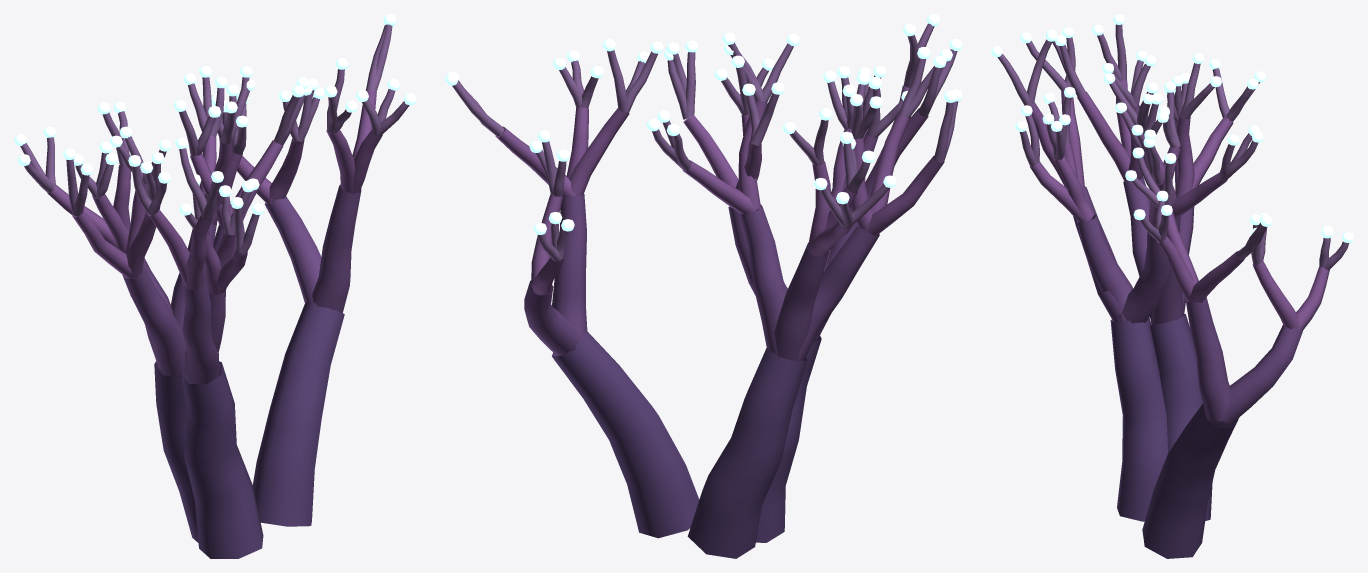
Rendered from coral.glb.
The picture shows the model from 3 angles, left to right: view 1: azimuth 30°, elevation 25°; view 2: azimuth 150°, elevation 25°; view 3: azimuth 270°, elevation 25°; orthographic projection. The views are drawn at different scales.
Visible parts, largest first — view 1: coral; view 2: coral; view 3: coral.
Part boxes in pixels (x1,y1,x2,y2): coral: (14,14,416,558); coral: (445,14,962,558); coral: (991,14,1353,558).
Size of the model in its own units: 1.77 by 1.98 by 1.45.
